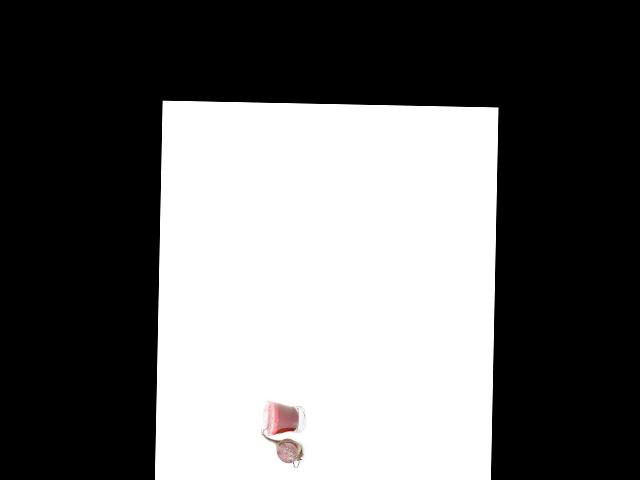beet: (260, 423, 304, 467)
